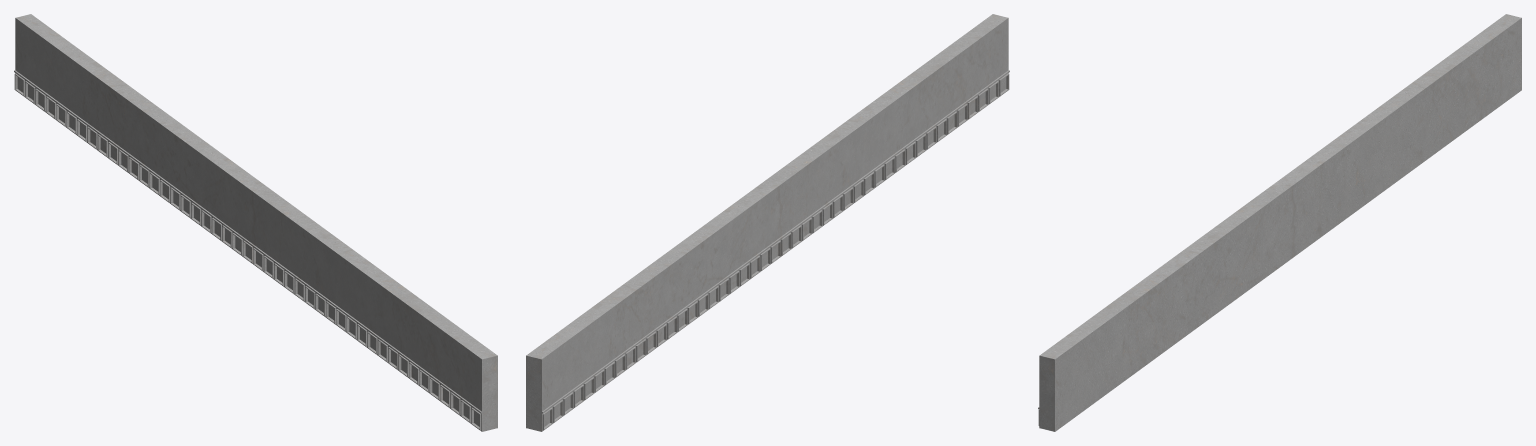
The model's file is wall_side_with_texture.fbx.
3 renders of one model, left to right at view 1: azimuth 30°, elevation 25°; view 2: azimuth 150°, elevation 25°; view 3: azimuth 330°, elevation 25°, orthographic.
Visible parts, largest first — view 1: wall_side_re; view 2: wall_side_re; view 3: wall_side_re.
Boxes of the visible parts, x1=… form: wall_side_re: x1=14, y1=14, x2=497, y2=431; wall_side_re: x1=526, y1=14, x2=1009, y2=431; wall_side_re: x1=1038, y1=14, x2=1521, y2=431.
Size of the model in its own units: 2.41 by 9.82 by 114.
Materials: 1 (1 with a texture image).
